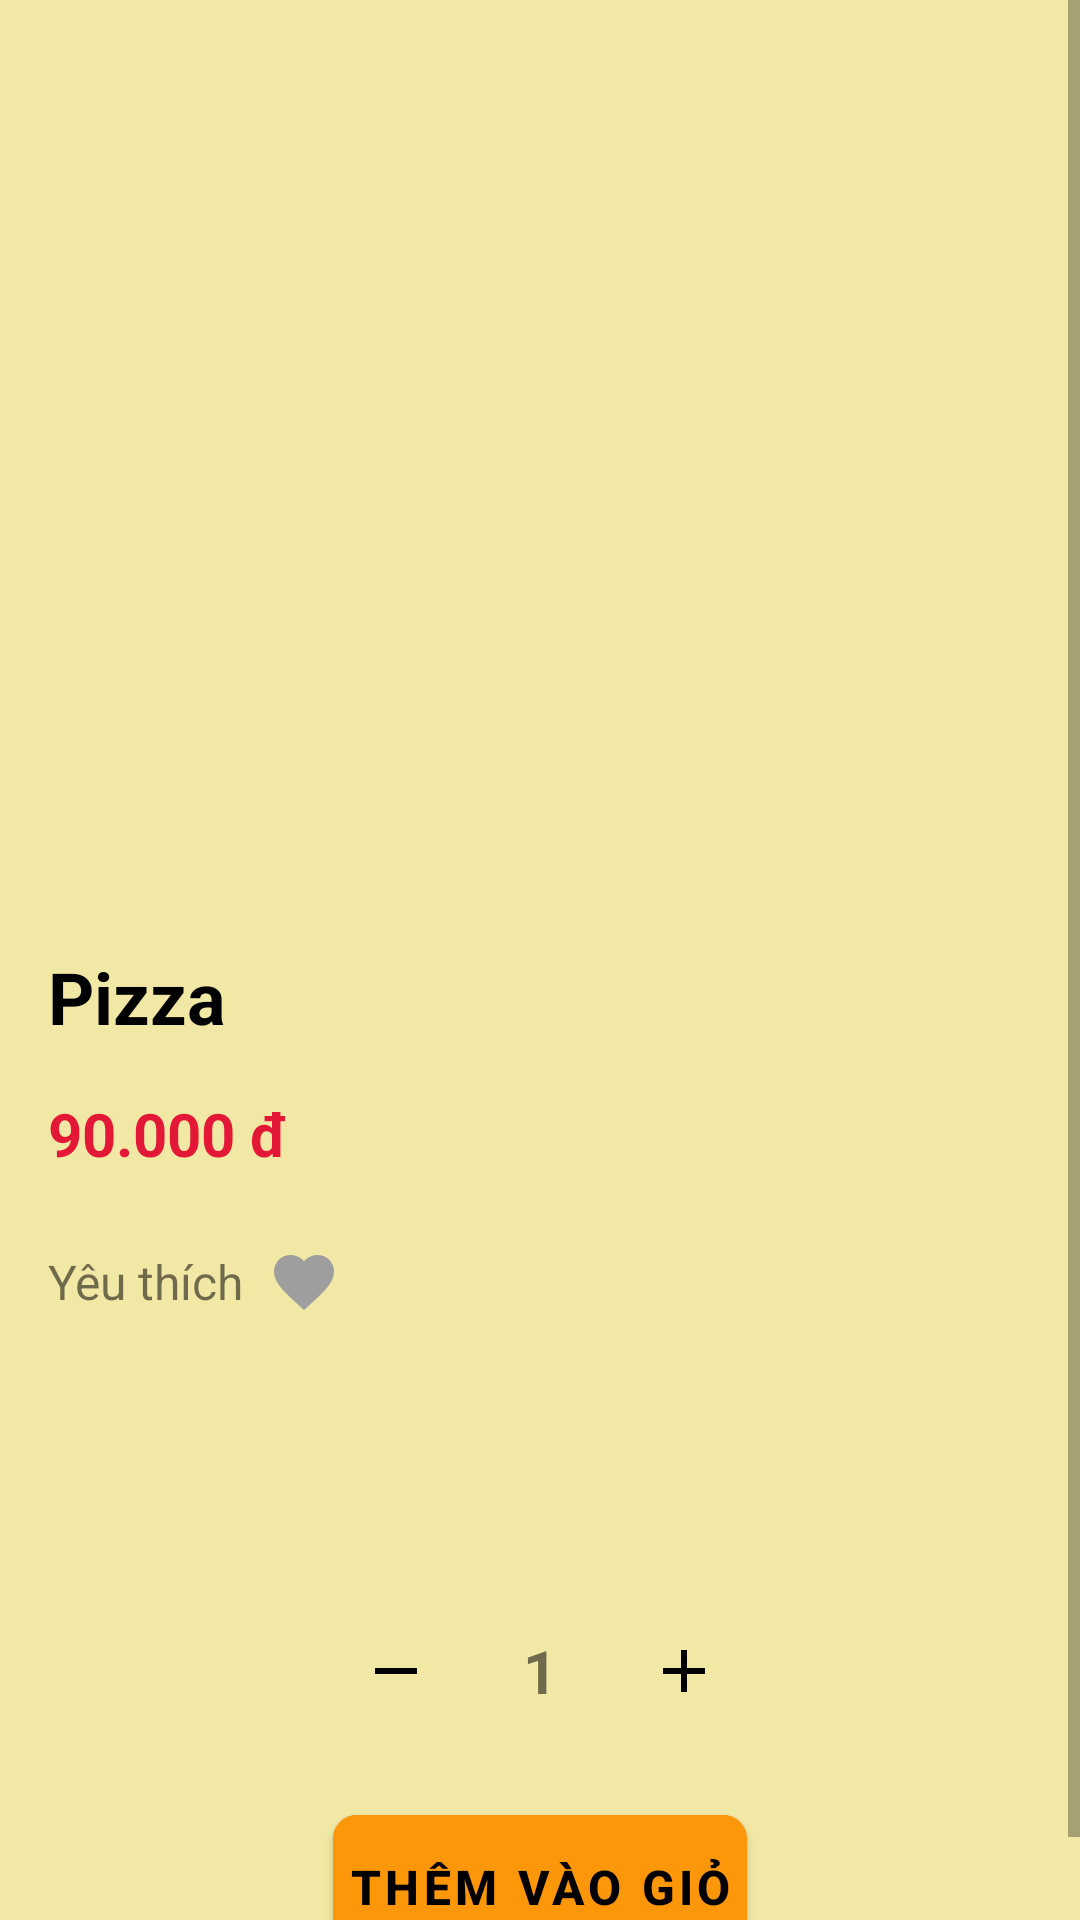

Icons on this 1080*1920 Android screen, each with its box as (x1=x1, y1=y1, x2=x2, y2=y2):
increase: (x1=663, y1=1650, x2=705, y2=1692)
like: (x1=274, y1=1255, x2=334, y2=1310)
